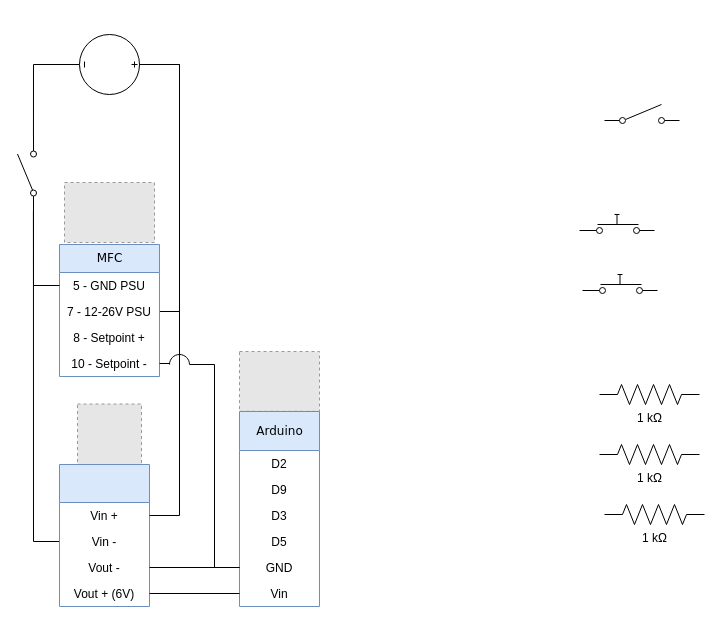
The diagram is 722 pixels wide and 627 high, and some of its shapes have lost their labels. Grey dashed boxes stand in for pictures. The shapes that lost their labels are listed below. From the top down, each one's box as (x1, y1, x2, y2) in pixels, then its label:
(78, 34, 140, 94): 15 VDC
(58, 464, 150, 606): Buck converter
